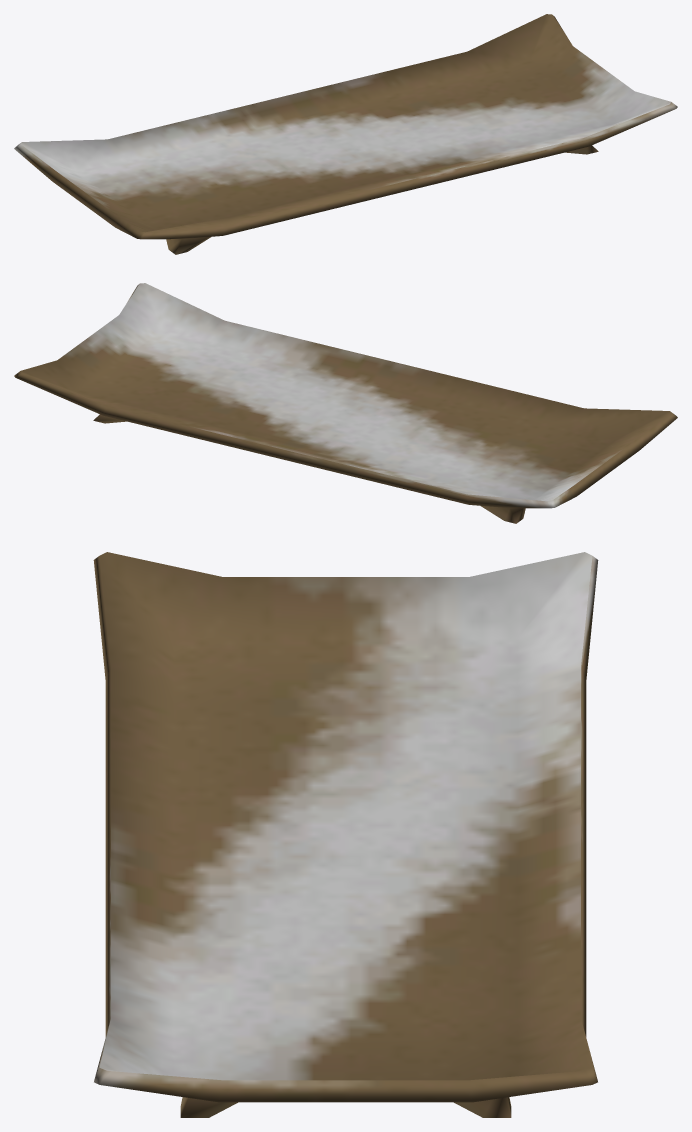
File: Tableware_LengthPlate01.fbx
3 views of the same model, one above another, from view 1: azimuth 30°, elevation 25°; view 2: azimuth 150°, elevation 25°; view 3: azimuth 270°, elevation 25° (orthographic). The views are drawn at different scales.
Parts seen in each view (by area): view 1: Tableware_LengthPlate01; view 2: Tableware_LengthPlate01; view 3: Tableware_LengthPlate01.
Boxes of the visible parts, x1,y1,x2,y2 form: Tableware_LengthPlate01: (14, 14, 677, 254); Tableware_LengthPlate01: (14, 283, 677, 523); Tableware_LengthPlate01: (93, 552, 598, 1117).
Size of the model in its own units: 36.7 by 3.24 by 14.82.
